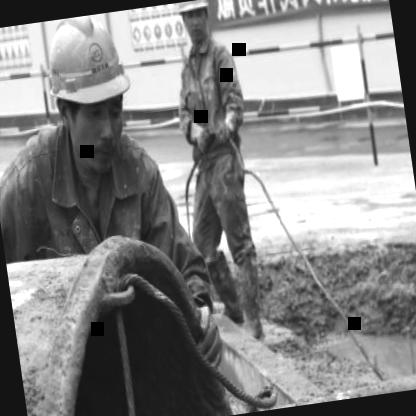helmet: (29, 9, 152, 188), (173, 0, 215, 47)
